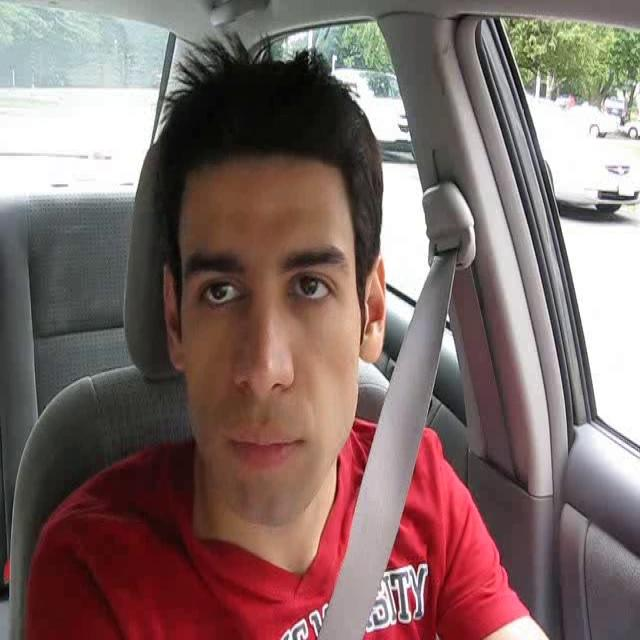close: (223, 421, 304, 474)
